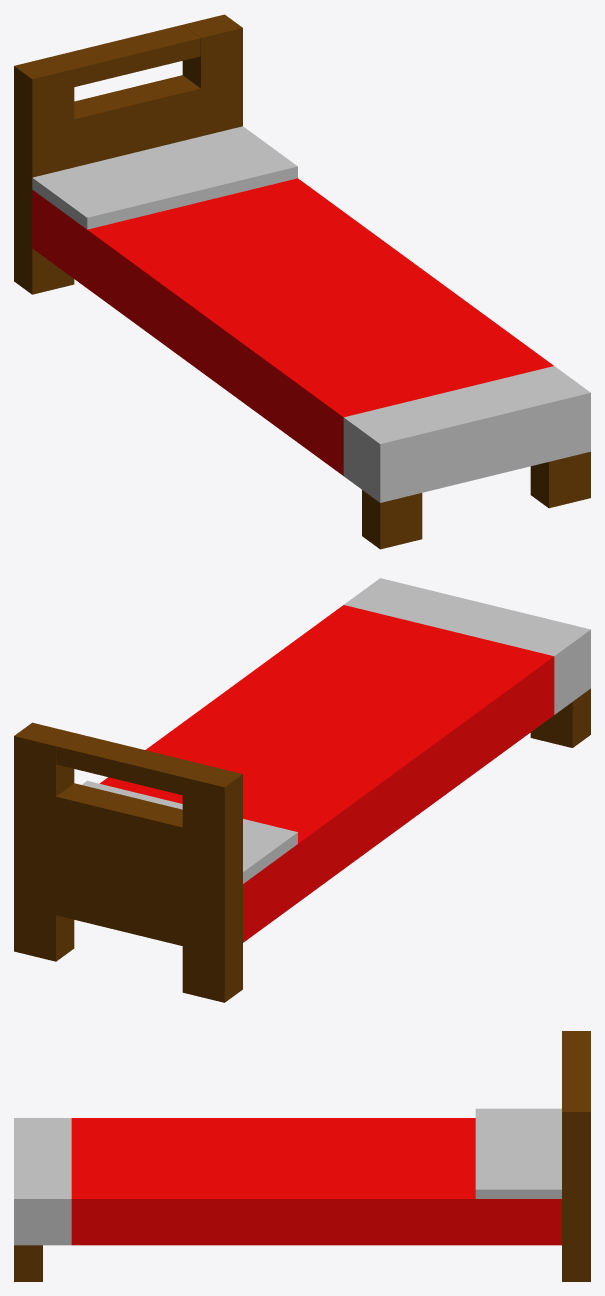
The model's file is bed.fbx.
3 views of the same model, one above another, from view 1: azimuth 30°, elevation 25°; view 2: azimuth 150°, elevation 25°; view 3: azimuth 270°, elevation 25° (orthographic). The views are drawn at different scales.
Parts seen in each view (by area): view 1: Куб; view 2: Куб; view 3: Куб.
Boxes of the visible parts, x1,y1,x2,y2 form: Куб: [14, 14, 590, 549]; Куб: [14, 578, 590, 1002]; Куб: [14, 1031, 590, 1281].
Bounding box in the file's own units: 200 × 195 × 602.
